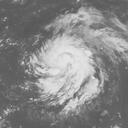cyclone: (30, 33, 97, 105)
